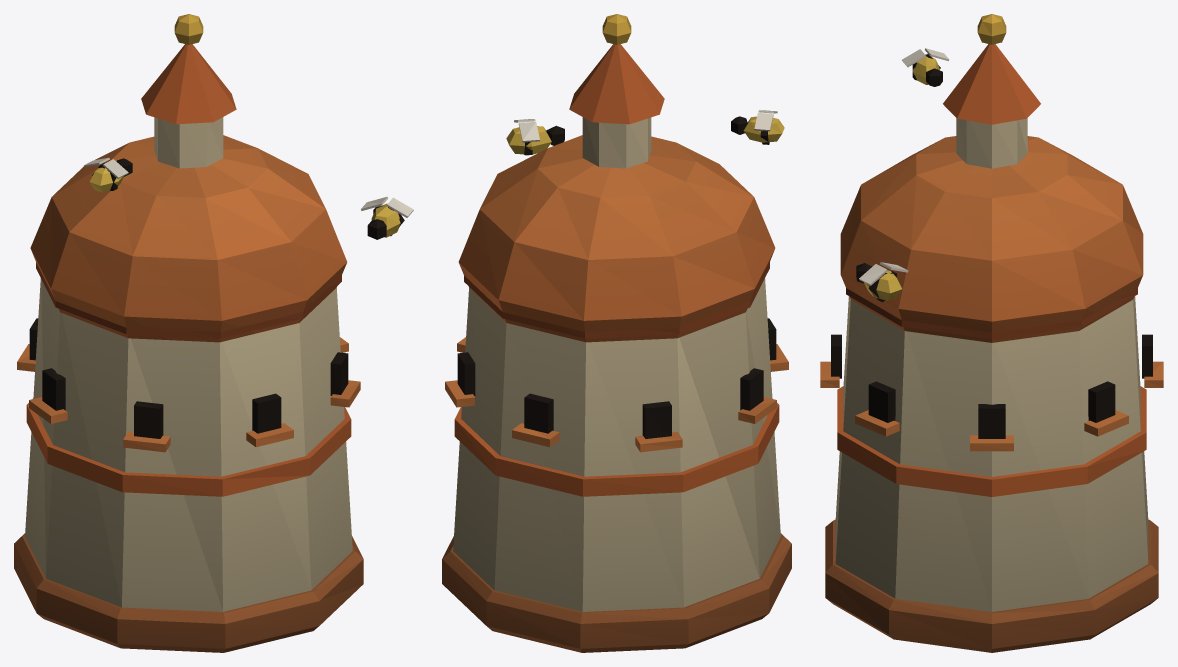
The model's file is apiary.glb.
3 views of the same model, side by side, from view 1: azimuth 30°, elevation 25°; view 2: azimuth 150°, elevation 25°; view 3: azimuth 270°, elevation 25° (orthographic).
Parts seen in each view (by area): view 1: apiary; view 2: apiary; view 3: apiary.
Part boxes in pixels (x1,y1,x2,y2): apiary: [14, 14, 413, 652]; apiary: [442, 14, 791, 652]; apiary: [820, 14, 1163, 652].
Size of the model in its own units: 0.6647 by 1.14 by 0.6262.
